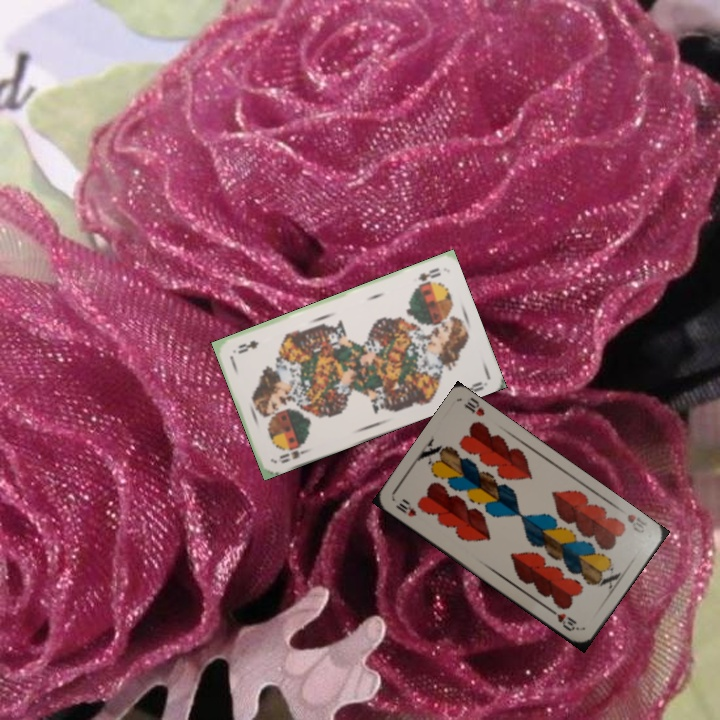H10: (623, 510, 649, 536), (392, 495, 419, 519)
SO: (275, 445, 312, 466), (414, 264, 444, 284)
